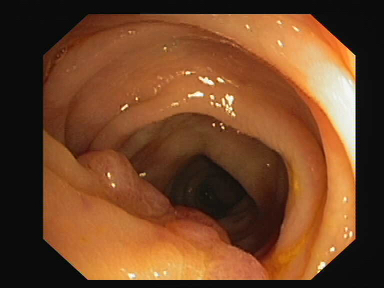polyp: (76, 148, 167, 210), (162, 206, 229, 248), (164, 219, 224, 248)
